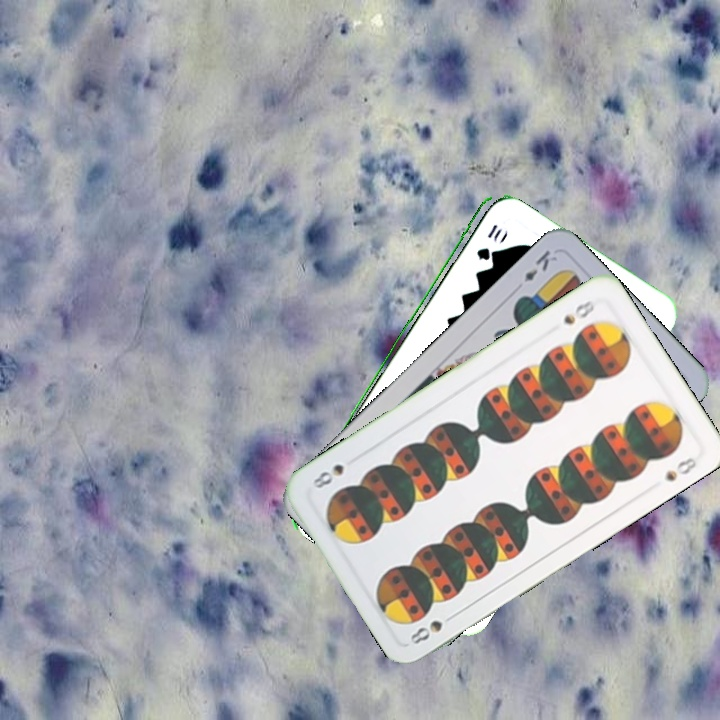EK: (519, 245, 560, 285)
G10: (472, 220, 505, 262)
S8: (405, 616, 445, 647), (559, 296, 597, 328)
